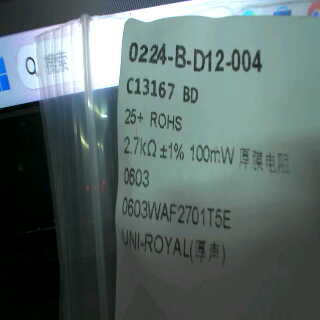2.7kR: (119, 131, 158, 161)
